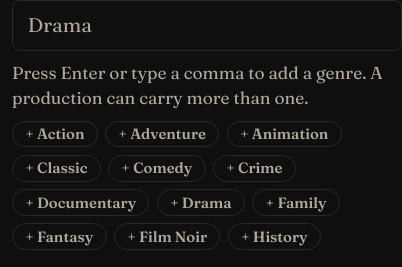
Test case: GenreInput › filters suggestions by what has been typed
expect the button "+ Comedy" is shown: met, box left=108, top=155, right=206, bottom=182
expect the button "+ Western" is not shown: met
In the field: (207, 26) left=28, top=11, right=386, bottom=41, type "wes"
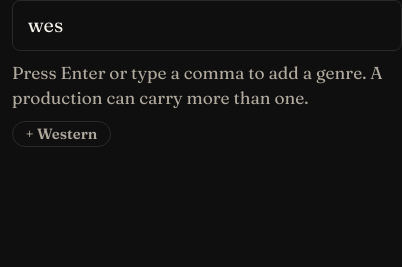
expect the button "+ Western" is shown: met, box left=12, top=121, right=111, bottom=148
expect the button "+ Comedy" is gone: met
